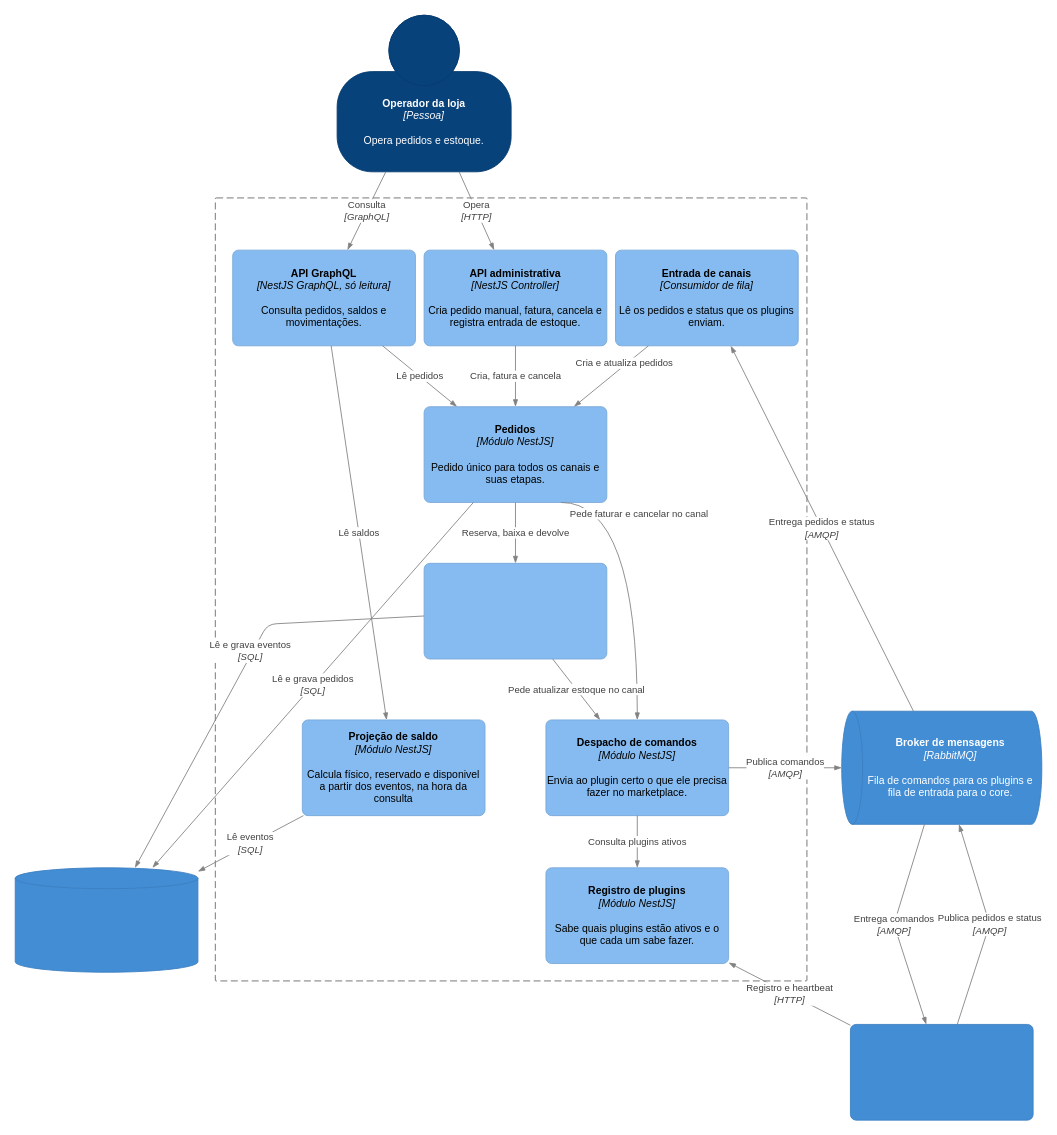
This 1057x1135 diagram has some shape labels left out. The shapes that lost their labels are listed below. From the top down, each one's box as (x1, y1, x2, y2) in pixels, then its label:
(214, 197, 807, 981): Core OMS [Container]
(423, 562, 607, 659): Estoque [Módulo NestJS] Grava cada movimentação como evento, sem sobrescrever.
(14, 867, 198, 972): Banco de dados [PostgreSQL] Pedidos e eventos de estoque.
(850, 1024, 1033, 1120): Plugins de marketplace [NestJS] Um por marketplace, cada um em processo próprio.
